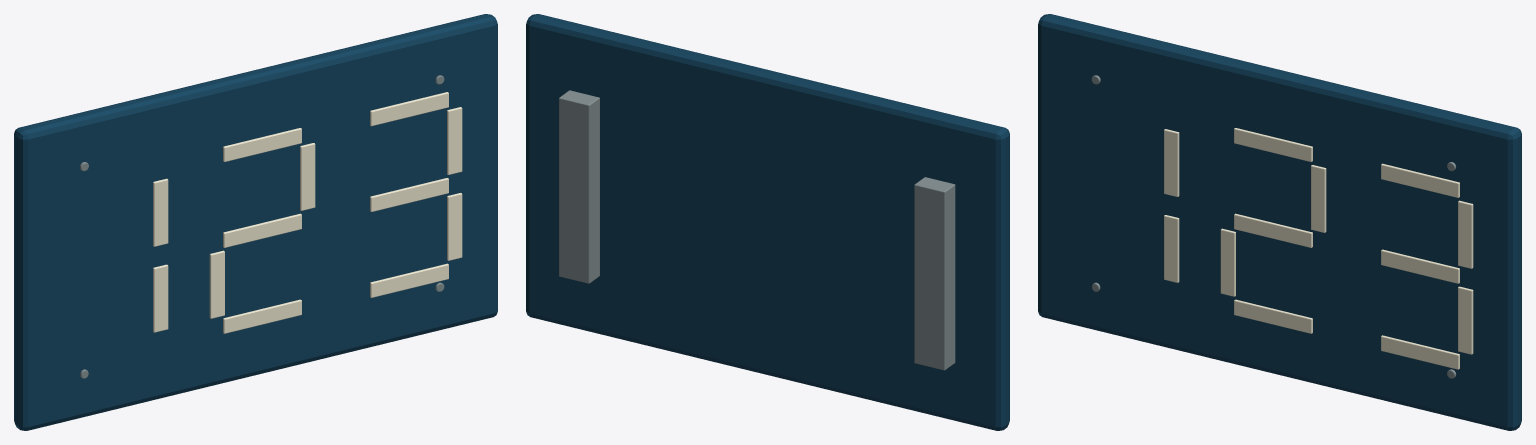
Rendered from edited.glb.
The picture shows the model from 3 angles, left to right: view 1: azimuth 30°, elevation 25°; view 2: azimuth 150°, elevation 25°; view 3: azimuth 330°, elevation 25°; orthographic projection.
Visible parts, largest first — view 1: SIGN_Panel, NUM_2_g, NUM_3_a, NUM_3_d, NUM_2_d, NUM_2_a, NUM_3_g, NUM_1_c, NUM_1_b, NUM_2_b, NUM_2_e, NUM_3_b (+1 smaller); view 2: SIGN_Panel, MOUNT_StandOff, MOUNT_StandOff.001; view 3: SIGN_Panel, NUM_2_g, NUM_3_a, NUM_2_d, NUM_3_d, NUM_3_g, NUM_2_a, NUM_3_c, NUM_3_b, NUM_1_c, NUM_2_b, NUM_2_e (+1 smaller).
Part boxes in pixels (left/top/right/bottom): SIGN_Panel: left=14, top=14, right=497, bottom=430; NUM_2_g: left=223, top=213, right=301, bottom=247; NUM_3_a: left=370, top=92, right=448, bottom=126; NUM_3_d: left=370, top=263, right=448, bottom=297; NUM_2_d: left=223, top=299, right=301, bottom=333; NUM_2_a: left=223, top=128, right=301, bottom=161; NUM_3_g: left=370, top=178, right=448, bottom=211; NUM_1_c: left=153, top=264, right=168, bottom=332; NUM_1_b: left=153, top=178, right=168, bottom=246; NUM_2_b: left=300, top=143, right=315, bottom=210; NUM_2_e: left=209, top=250, right=224, bottom=318; NUM_3_b: left=447, top=107, right=462, bottom=174; SIGN_Panel: left=526, top=14, right=1009, bottom=430; MOUNT_StandOff: left=914, top=177, right=955, bottom=370; MOUNT_StandOff.001: left=559, top=90, right=599, bottom=283; SIGN_Panel: left=1038, top=14, right=1521, bottom=430; NUM_2_g: left=1234, top=213, right=1312, bottom=247; NUM_3_a: left=1381, top=163, right=1459, bottom=197; NUM_2_d: left=1234, top=299, right=1312, bottom=333; NUM_3_d: left=1381, top=335, right=1459, bottom=369; NUM_3_g: left=1381, top=249, right=1459, bottom=283; NUM_2_a: left=1234, top=128, right=1312, bottom=161; NUM_3_c: left=1458, top=286, right=1473, bottom=354; NUM_3_b: left=1458, top=200, right=1473, bottom=268; NUM_1_c: left=1164, top=215, right=1179, bottom=282; NUM_2_b: left=1311, top=165, right=1326, bottom=232; NUM_2_e: left=1220, top=228, right=1235, bottom=296.
Bounding box in the file's own units: 1.4 × 0.84 × 0.1195.
